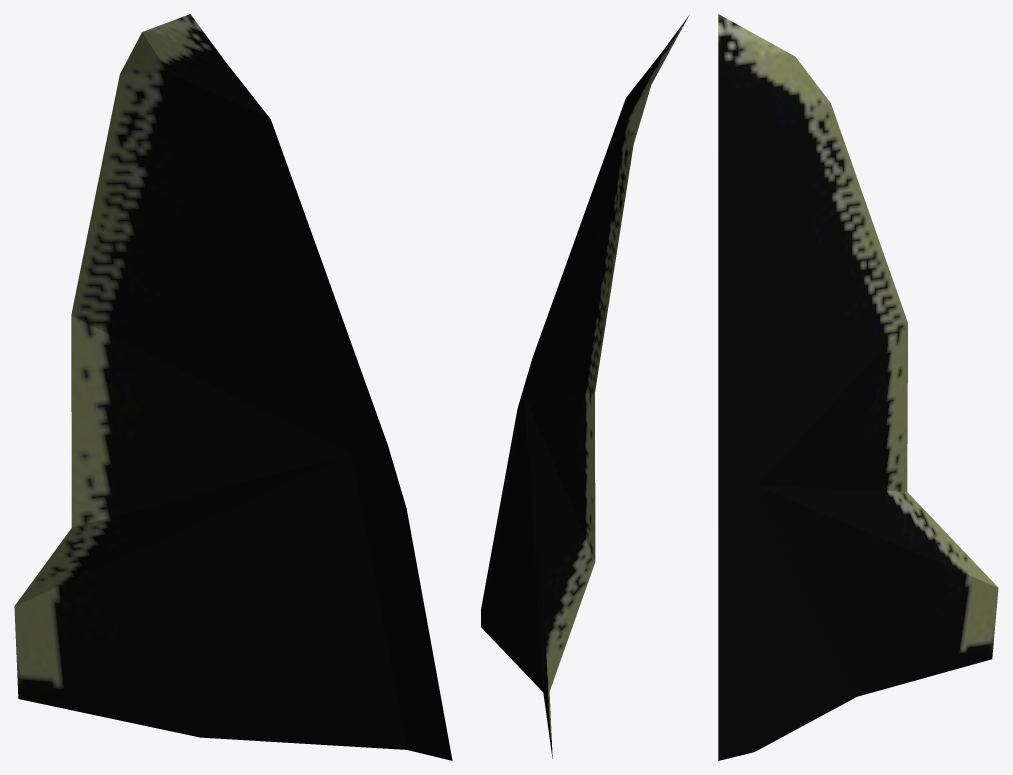
The picture shows the model from 3 angles, left to right: view 1: azimuth 30°, elevation 25°; view 2: azimuth 150°, elevation 25°; view 3: azimuth 270°, elevation 25°; orthographic projection. The views are drawn at different scales.
Bounding box in the file's own units: 1.05 × 3.11 × 1.22.
1 material, 1 textured.
